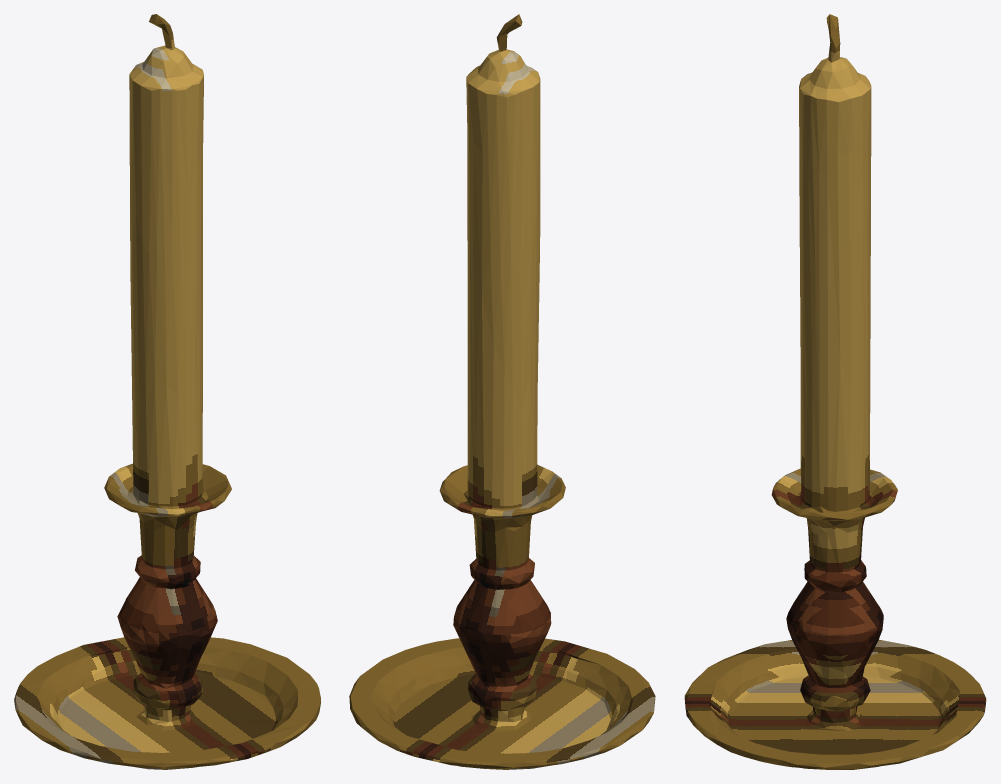
File: candle.glb
3 views of the same model, side by side, from view 1: azimuth 30°, elevation 25°; view 2: azimuth 150°, elevation 25°; view 3: azimuth 270°, elevation 25° (orthographic).
Visible parts, largest first — view 1: candle; view 2: candle; view 3: candle.
Boxes of the visible parts, x1,y1,x2,y2 form: candle: [14, 14, 320, 769]; candle: [349, 14, 655, 769]; candle: [684, 14, 986, 769].
Bounding box in the file's own units: 0.1625 × 0.42 × 0.1614.
Materials: 1 (1 with a texture image).
